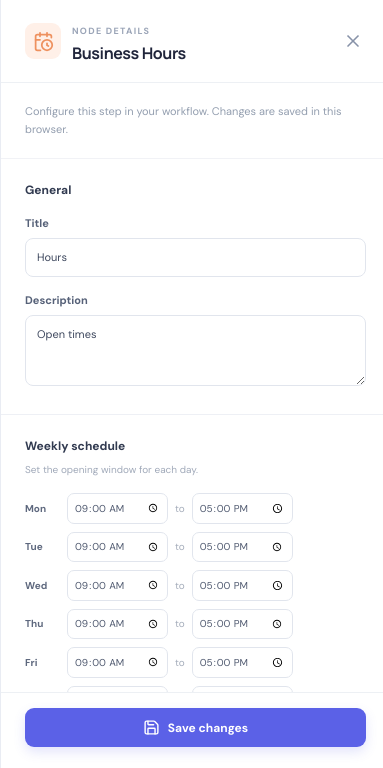
it: NodeDrawer › rejects an invalid business hours interval
Replace the text in the time field named "Monday opening time" with "18:00": x=118, y=508 [67,493,168,524]
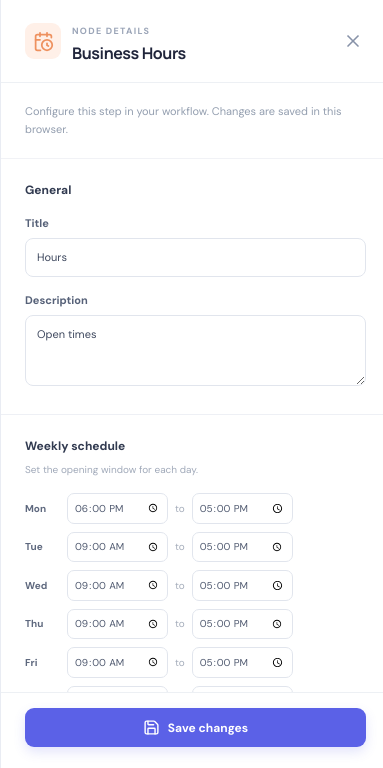
Click the button with class "save-button": x=196, y=728 [25,708,366,747]
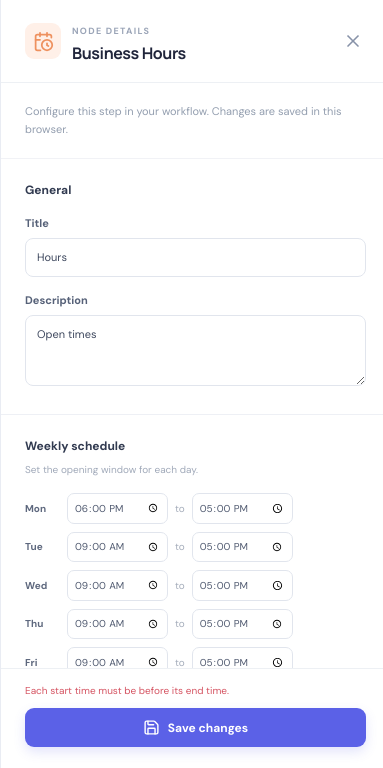
Expected: the message "Each start time must be before its end time." is shown, [25,684,229,697]
